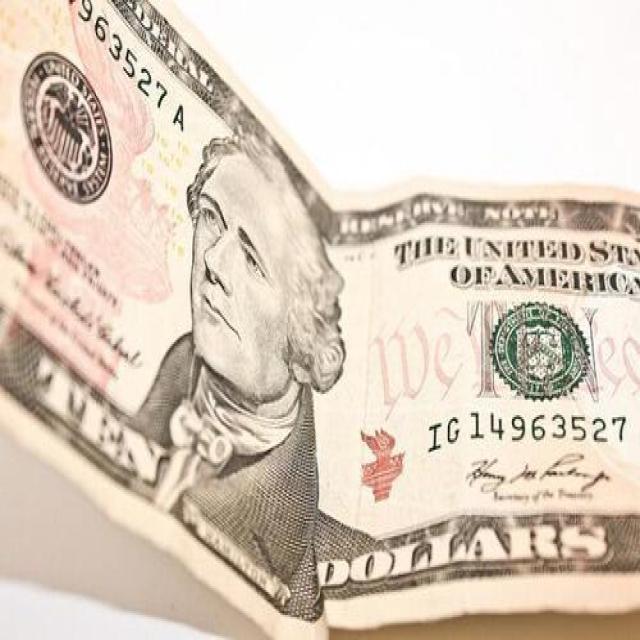10-Front: (0, 2, 640, 634)
